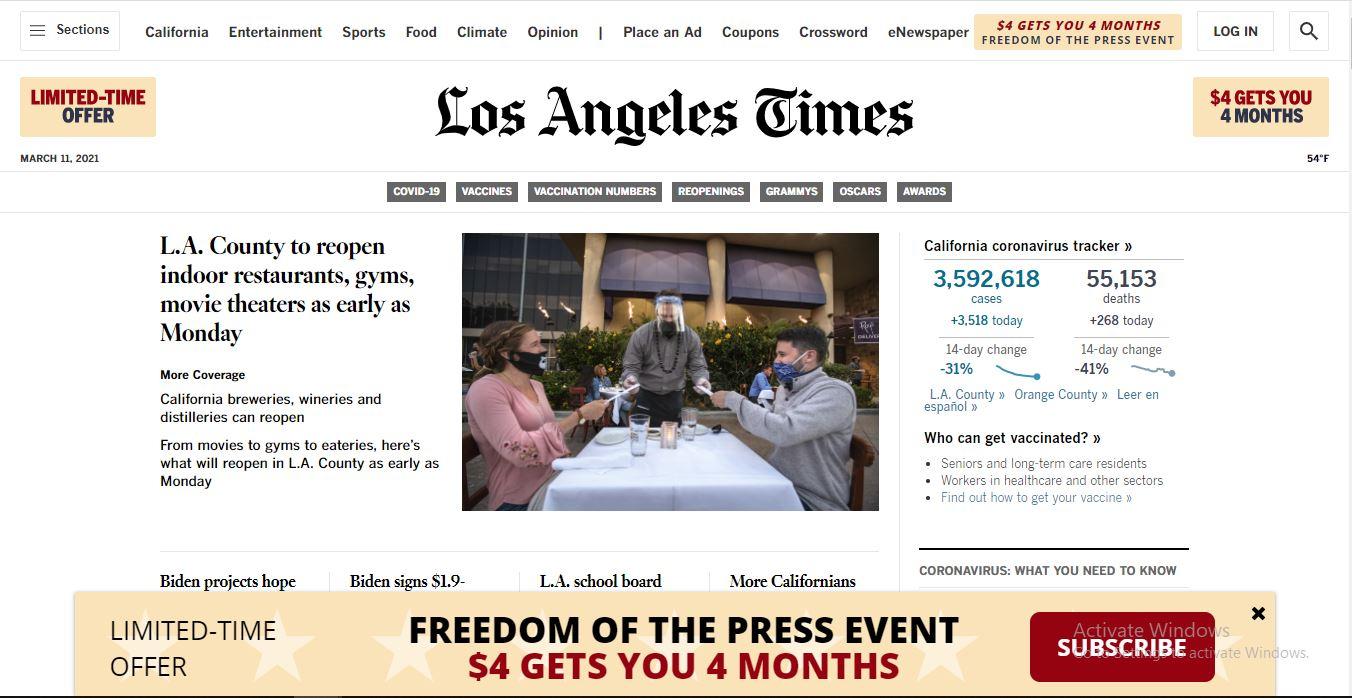Button: (1192, 8, 1278, 58)
Image: (465, 225, 877, 509)
Menu Bar: (18, 0, 969, 52)
